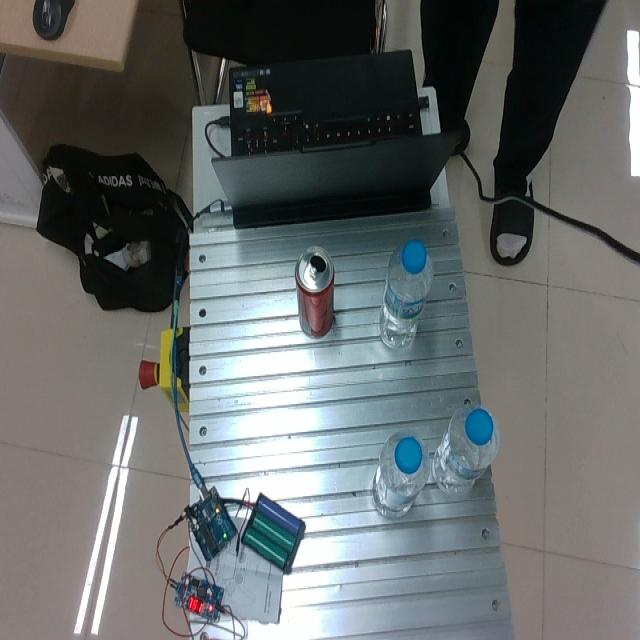coca: (294, 244, 335, 339)
lavie: (431, 402, 499, 494), (378, 238, 433, 350), (371, 430, 429, 518)
